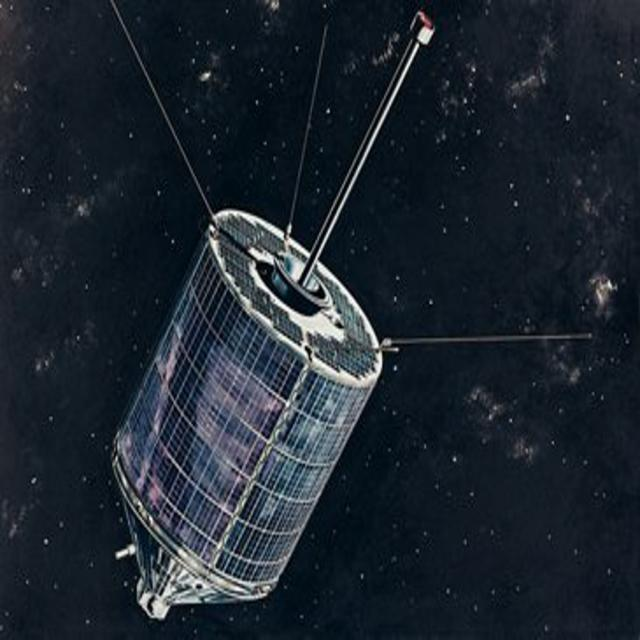medium_debris: (100, 174, 386, 625)
